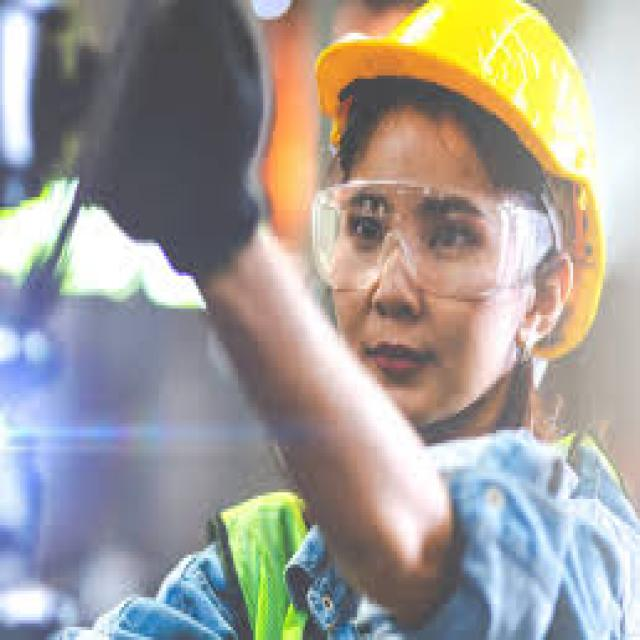oculos-epi: (313, 181, 552, 294)
